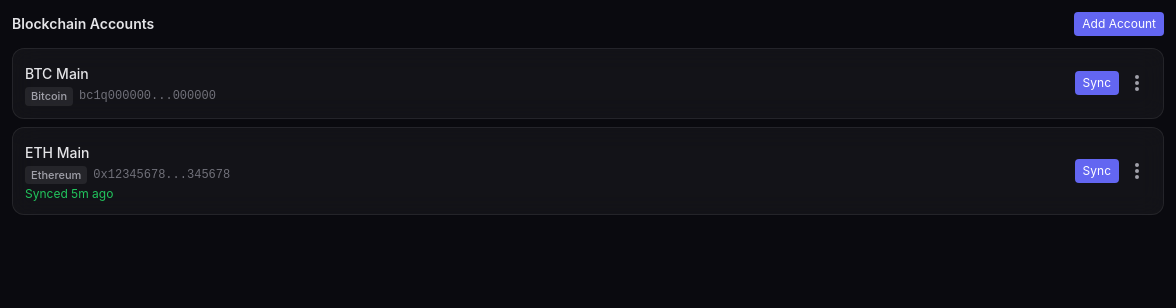
Scenario: WalletAccounts › opens rename form from dropdown
This screenshot has width=1176, height=308.
Click the button without text in the row of "bc1q000000...000000". click: (1137, 83)
box: top-left (1123, 69), bottom-right (1151, 97)
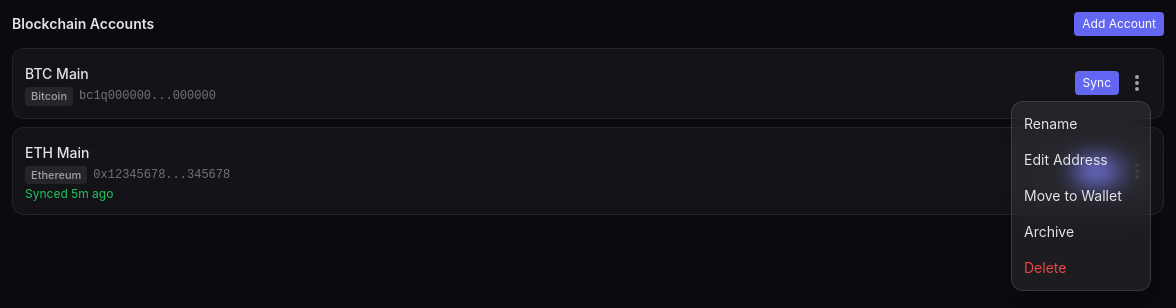
Result: the button "Rename" is shown
Click the button "Rename". click: (1081, 124)
box: top-left (1012, 106), bottom-right (1150, 142)
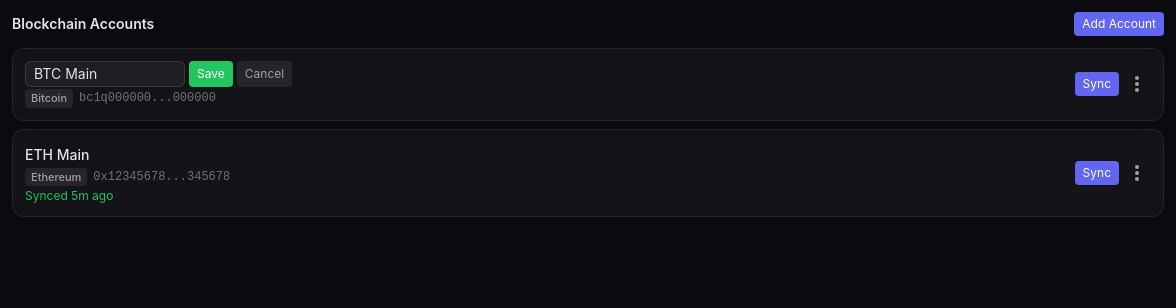
Result: the field showing "BTC Main" is shown at top-left (25, 61), bottom-right (185, 87)
Result: the button "Save" is shown at top-left (189, 61), bottom-right (233, 87)
